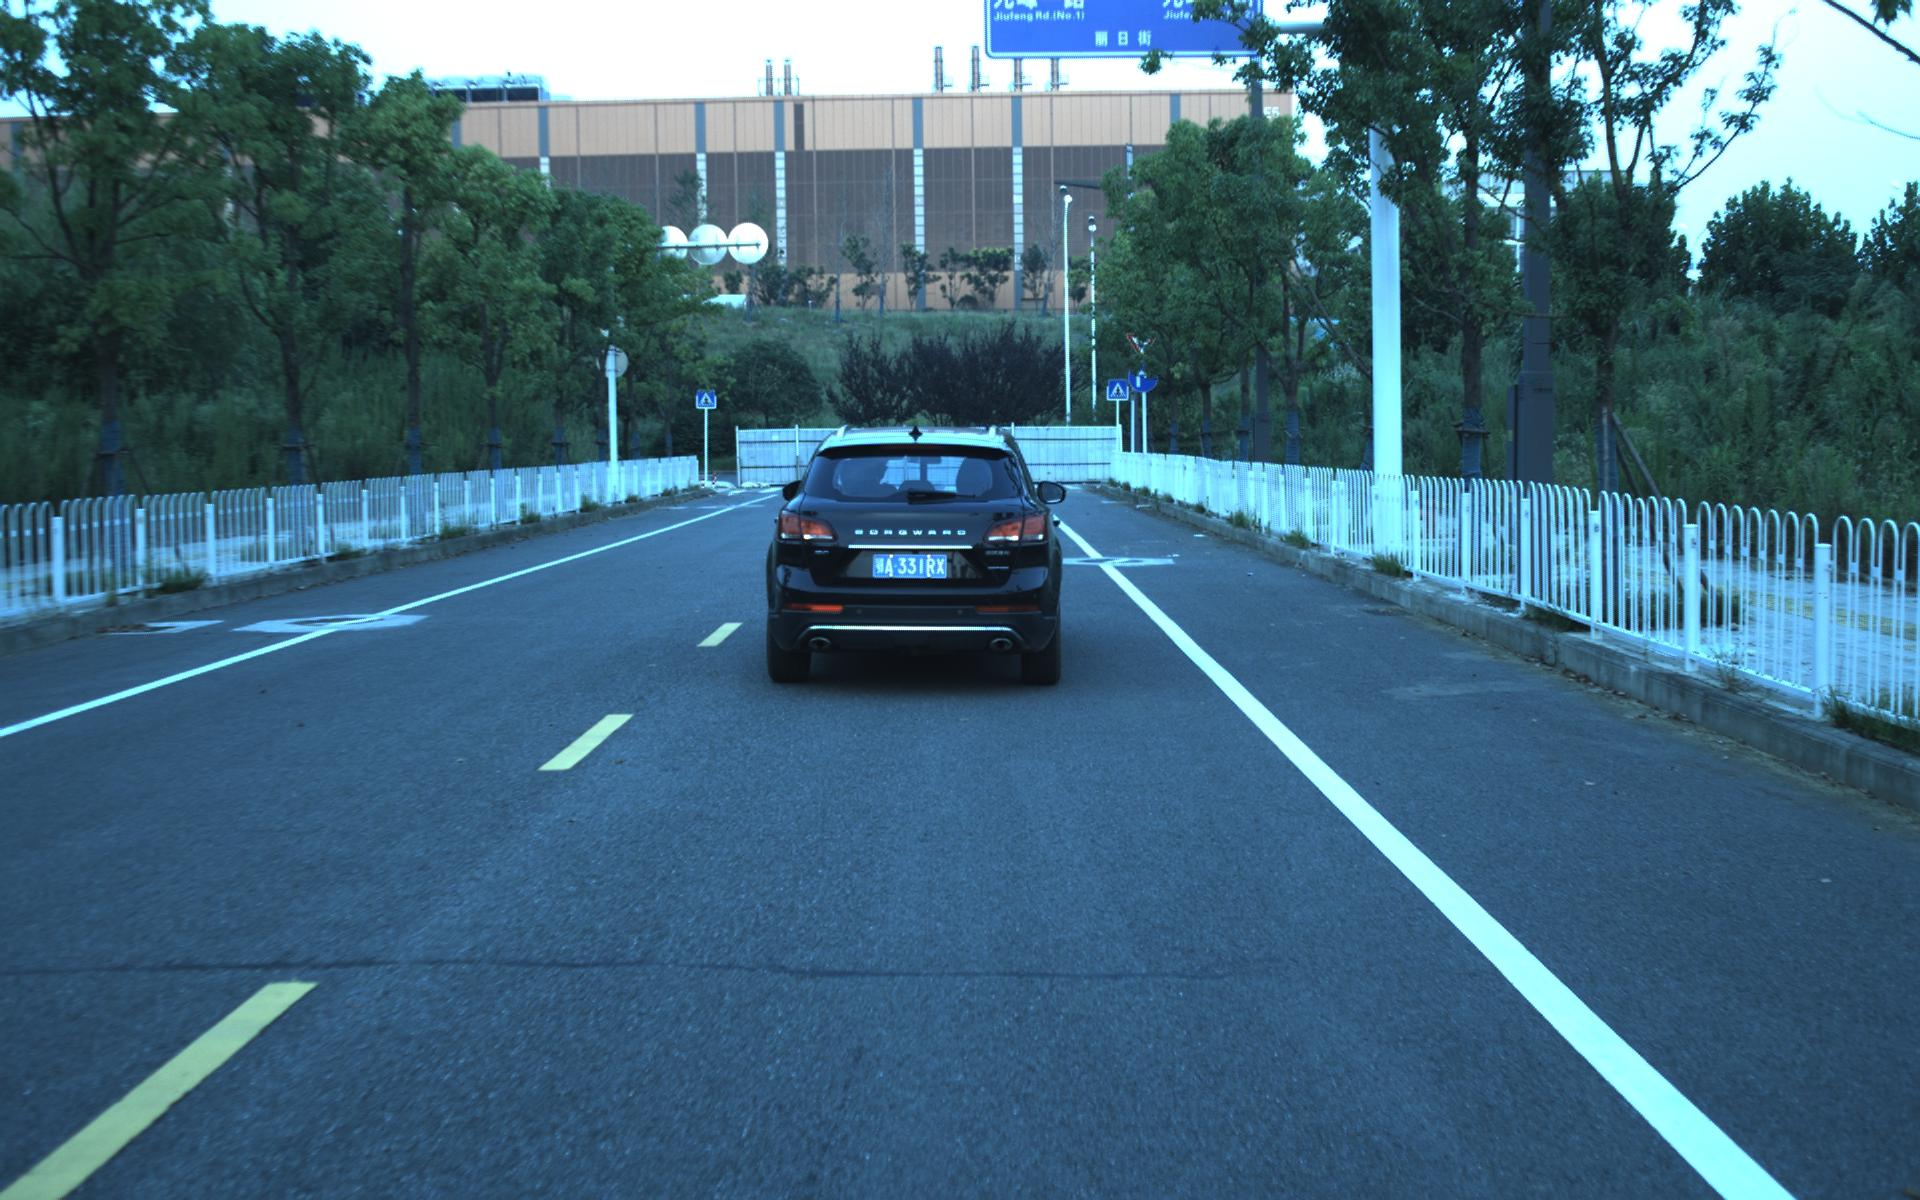Car: (764, 418, 1064, 687)
